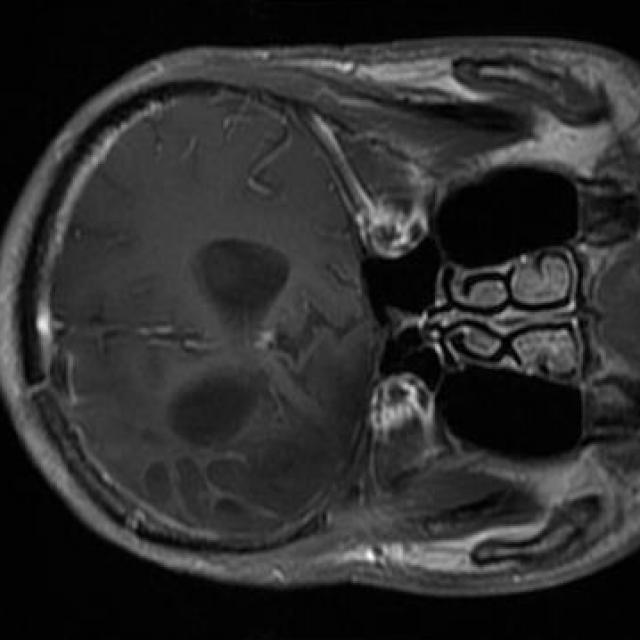glioma: (146, 324, 374, 529)
